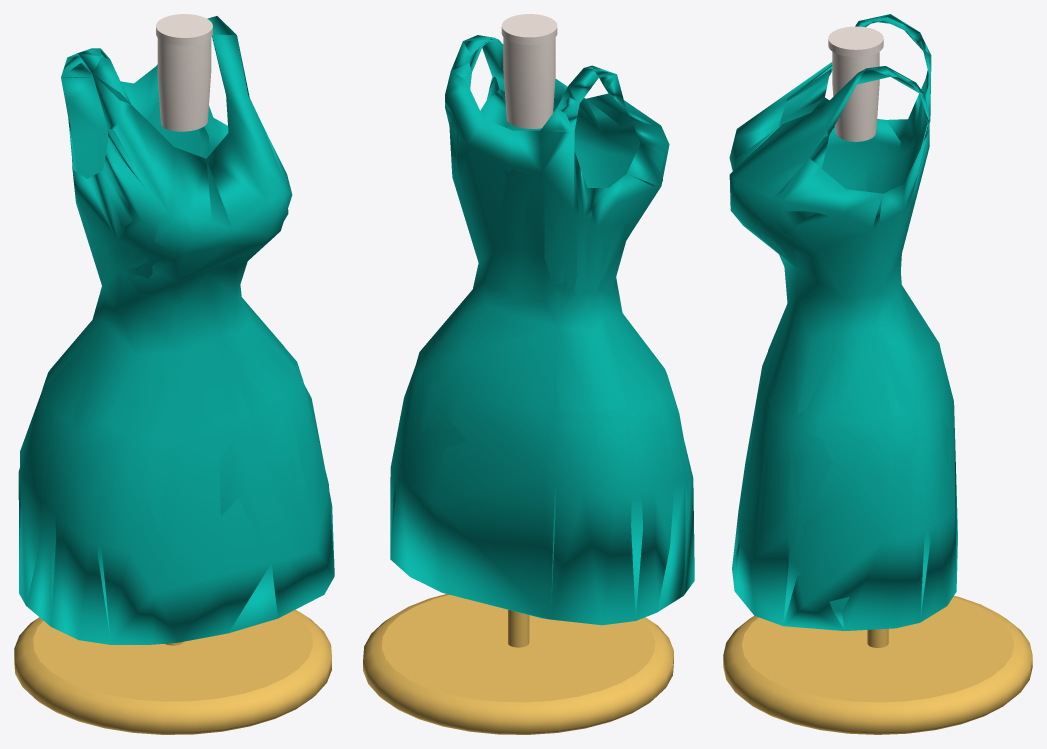
The model's file is rain.dress.teal-tulip.lod1.glb.
The picture shows the model from 3 angles, left to right: view 1: azimuth 30°, elevation 25°; view 2: azimuth 150°, elevation 25°; view 3: azimuth 270°, elevation 25°; orthographic projection. The views are drawn at different scales.
Visible parts, largest first — view 1: Tailored.Dress.teal-tulip.Fabric, stand_base, stand_torso, stand_neck_cap; view 2: Tailored.Dress.teal-tulip.Fabric, stand_base, stand_torso, stand_neck_cap, stand_stem; view 3: Tailored.Dress.teal-tulip.Fabric, stand_base, stand_torso, stand_neck_cap.
Part boxes in pixels (x1=…): Tailored.Dress.teal-tulip.Fabric: x1=18, y1=16, x2=334, y2=644; stand_base: x1=14, y1=609, x2=331, y2=734; stand_torso: x1=157, y1=38, x2=211, y2=131; stand_neck_cap: x1=156, y1=14, x2=212, y2=45; Tailored.Dress.teal-tulip.Fabric: x1=390, y1=35, x2=694, y2=625; stand_base: x1=363, y1=594, x2=673, y2=734; stand_torso: x1=503, y1=37, x2=555, y2=128; stand_neck_cap: x1=501, y1=14, x2=557, y2=44; stand_stem: x1=508, y1=609, x2=529, y2=647; Tailored.Dress.teal-tulip.Fabric: x1=729, y1=14, x2=957, y2=630; stand_base: x1=723, y1=596, x2=1032, y2=734; stand_torso: x1=832, y1=52, x2=879, y2=141; stand_neck_cap: x1=828, y1=26, x2=883, y2=57.
Bounding box in the file's own units: 0.3404 × 0.75 × 0.3298.
